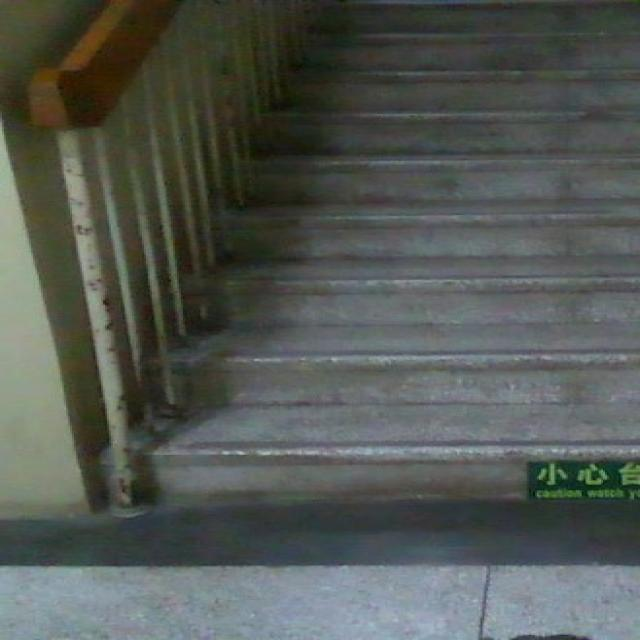Stairs: (123, 0, 638, 509)
